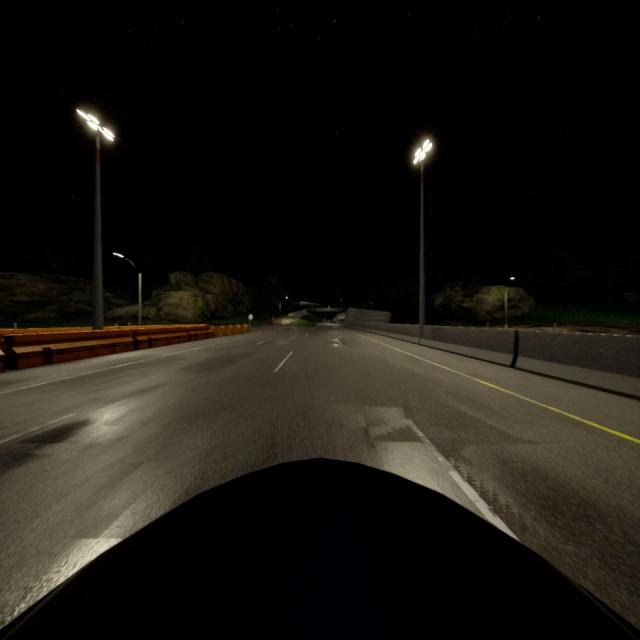Traffic_Signs: (248, 314, 253, 320)
Vehicle: (0, 457, 640, 640)
